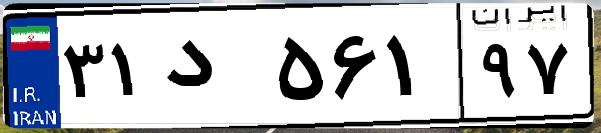1: (385, 28, 445, 110), (110, 28, 158, 98)
3: (57, 26, 110, 100)
5: (270, 28, 330, 110)
6: (330, 28, 385, 110)
7: (525, 38, 570, 115)
9: (475, 38, 525, 113)
د: (158, 20, 270, 120)
